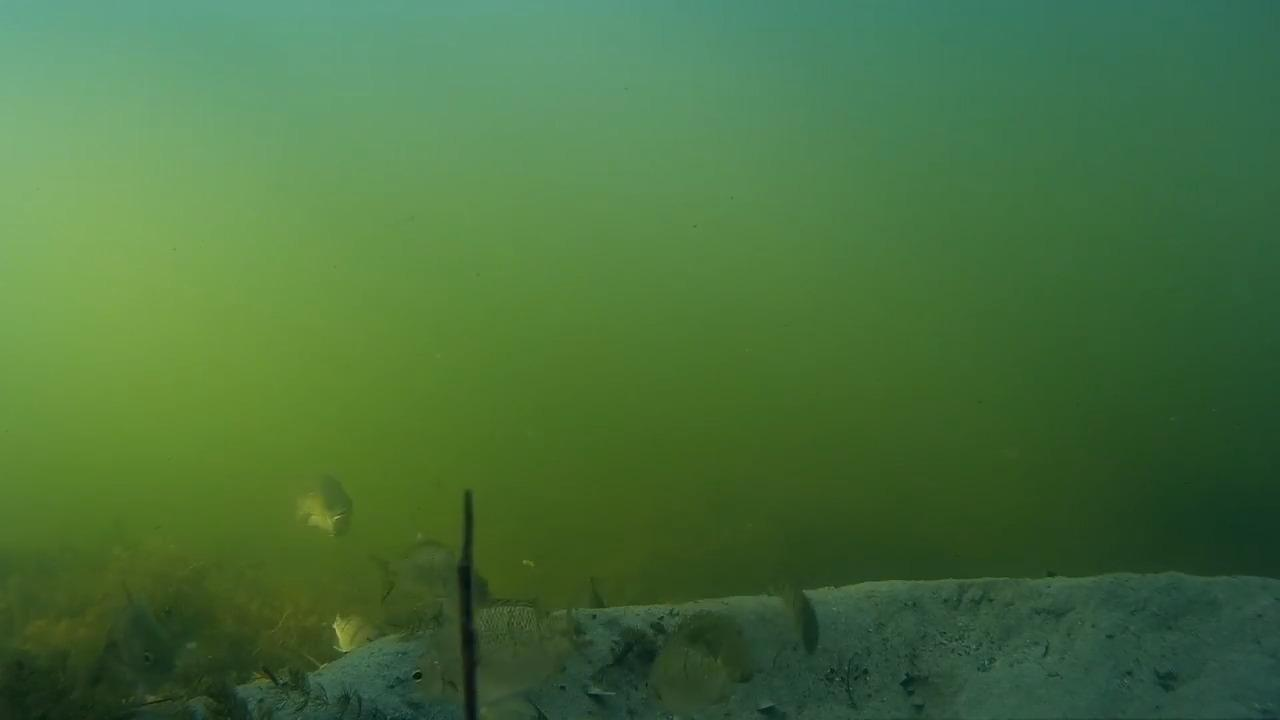Tilapia: (390, 592, 595, 712), (358, 536, 511, 618), (638, 626, 761, 712), (105, 590, 187, 702), (282, 466, 361, 546)
